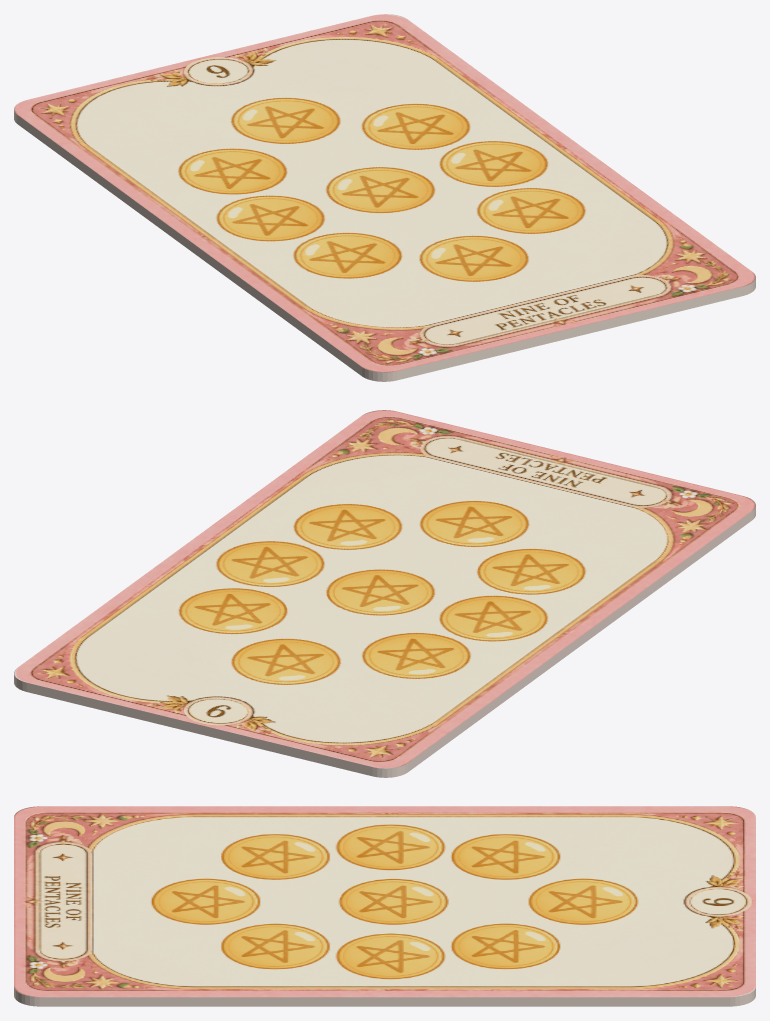
The model's file is nine_of_pentacles.fbx.
The picture shows the model from 3 angles, top to bottom: view 1: azimuth 30°, elevation 25°; view 2: azimuth 150°, elevation 25°; view 3: azimuth 270°, elevation 25°; orthographic projection.
Visible parts, largest first — view 1: nine_of_pentacles; view 2: nine_of_pentacles; view 3: nine_of_pentacles.
Part boxes in pixels (x1,y1,x2,y2): nine_of_pentacles: (14,14,755,381); nine_of_pentacles: (14,410,755,777); nine_of_pentacles: (14,806,755,1006).
Size of the model in its own units: 7 by 0.16 by 11.5.
Materials: 3 (2 with a texture image).
